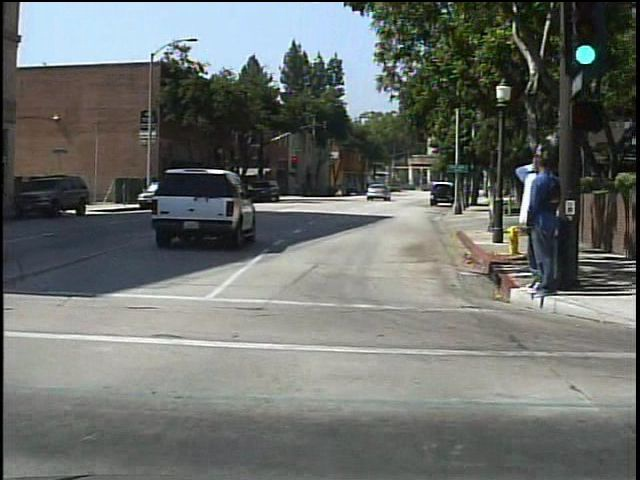person: (511, 154, 550, 296), (523, 153, 559, 301), (334, 179, 346, 198)
